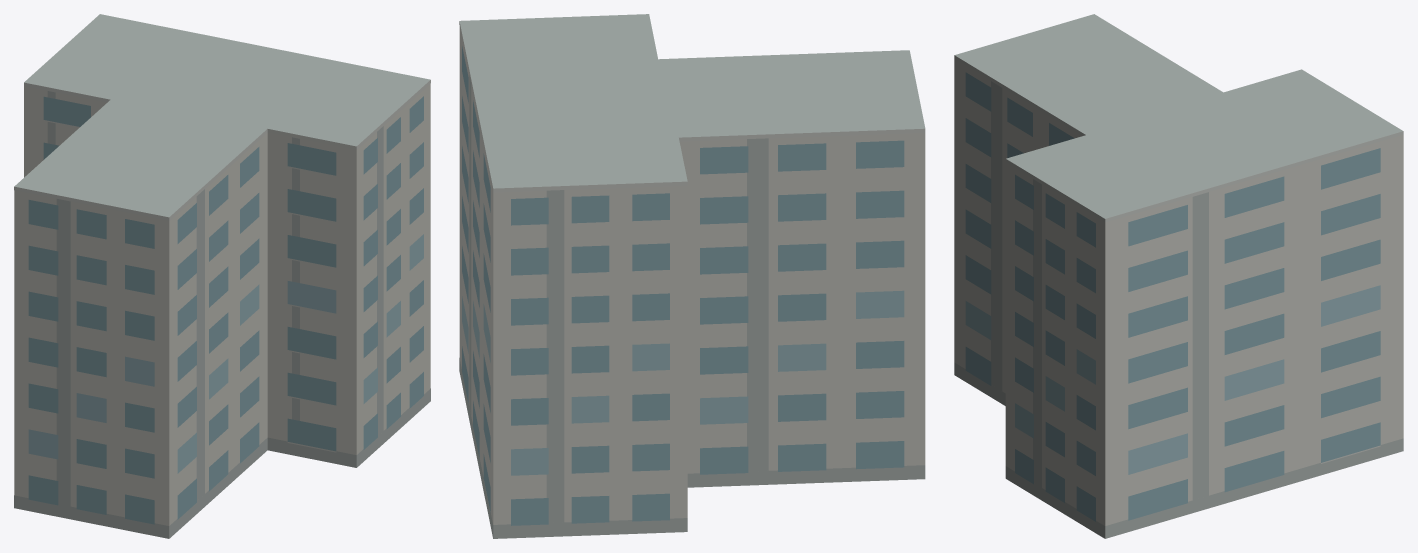
The model's file is residential-efc0ce96-e63c-471e-b9fb-a5770939090b.glb.
3 views of the same model, side by side, from view 1: azimuth 30°, elevation 25°; view 2: azimuth 150°, elevation 25°; view 3: azimuth 270°, elevation 25° (orthographic). The views are drawn at different scales.
Parts seen in each view (by area): view 1: residential-efc0ce96-e63c-471e-b9fb-a5770939090b.tmp; view 2: residential-efc0ce96-e63c-471e-b9fb-a5770939090b.tmp; view 3: residential-efc0ce96-e63c-471e-b9fb-a5770939090b.tmp.
Boxes of the visible parts, box(x1,y1,x2,y2) form: residential-efc0ce96-e63c-471e-b9fb-a5770939090b.tmp: box(14, 14, 430, 538); residential-efc0ce96-e63c-471e-b9fb-a5770939090b.tmp: box(459, 14, 925, 538); residential-efc0ce96-e63c-471e-b9fb-a5770939090b.tmp: box(954, 14, 1403, 538).
Size of the model in its own units: 29.34 by 21.35 by 27.17.
